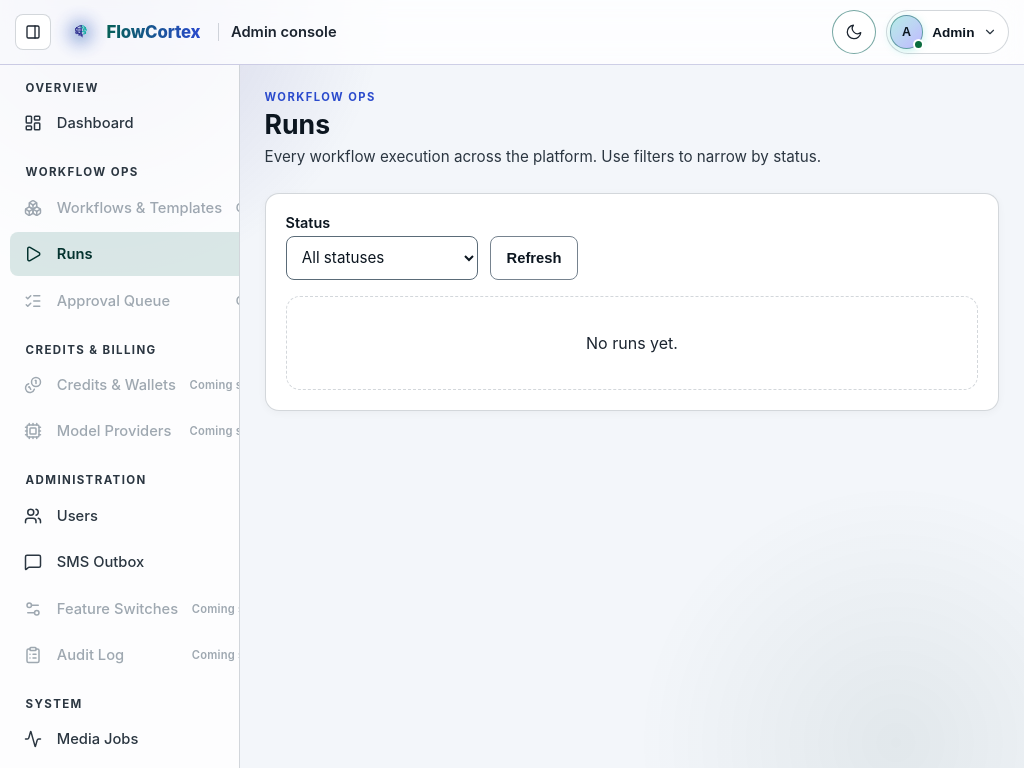
RequireAdminApp › drops every cached admin result on sign-out
Expected: the text "No runs yet." is shown, [586,333,678,353]
Click the button with aria-label "account menu".
click(947, 32)  # box [886,10,1009,54]
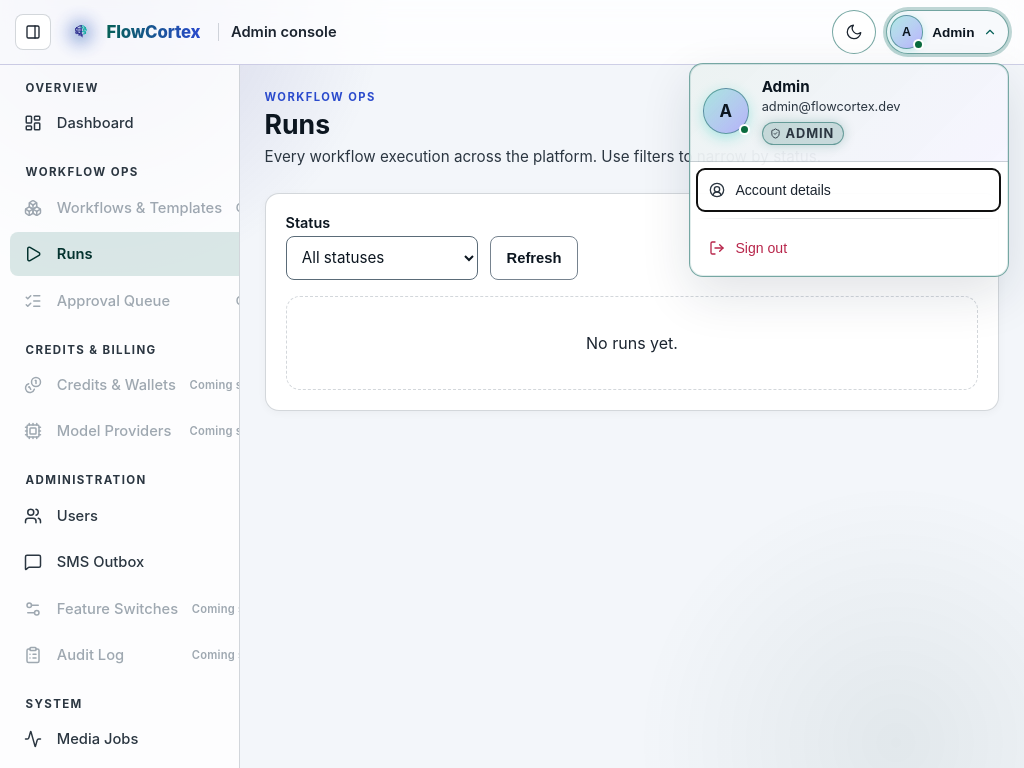
Click the menu item "Sign out".
click(761, 248)  # box [696,226,1001,270]
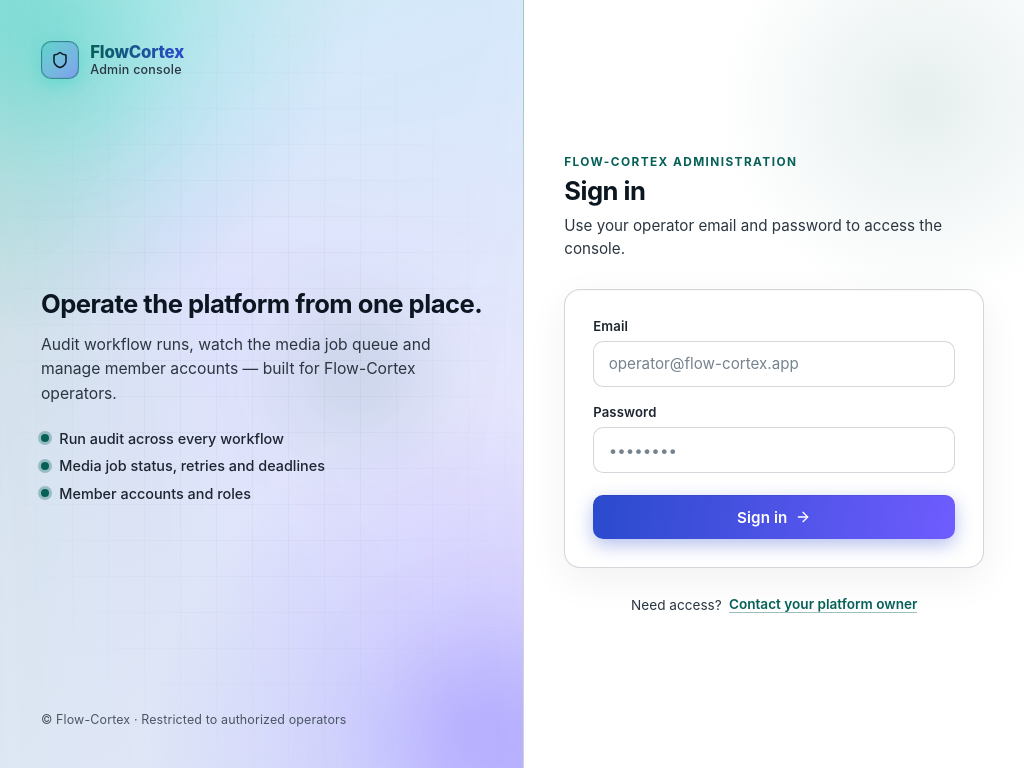
Expected: the heading "Sign in" is shown, [564,175,645,206]
